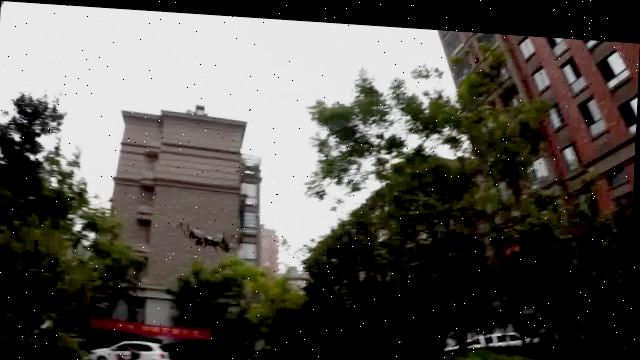drone: (175, 216, 240, 251)
